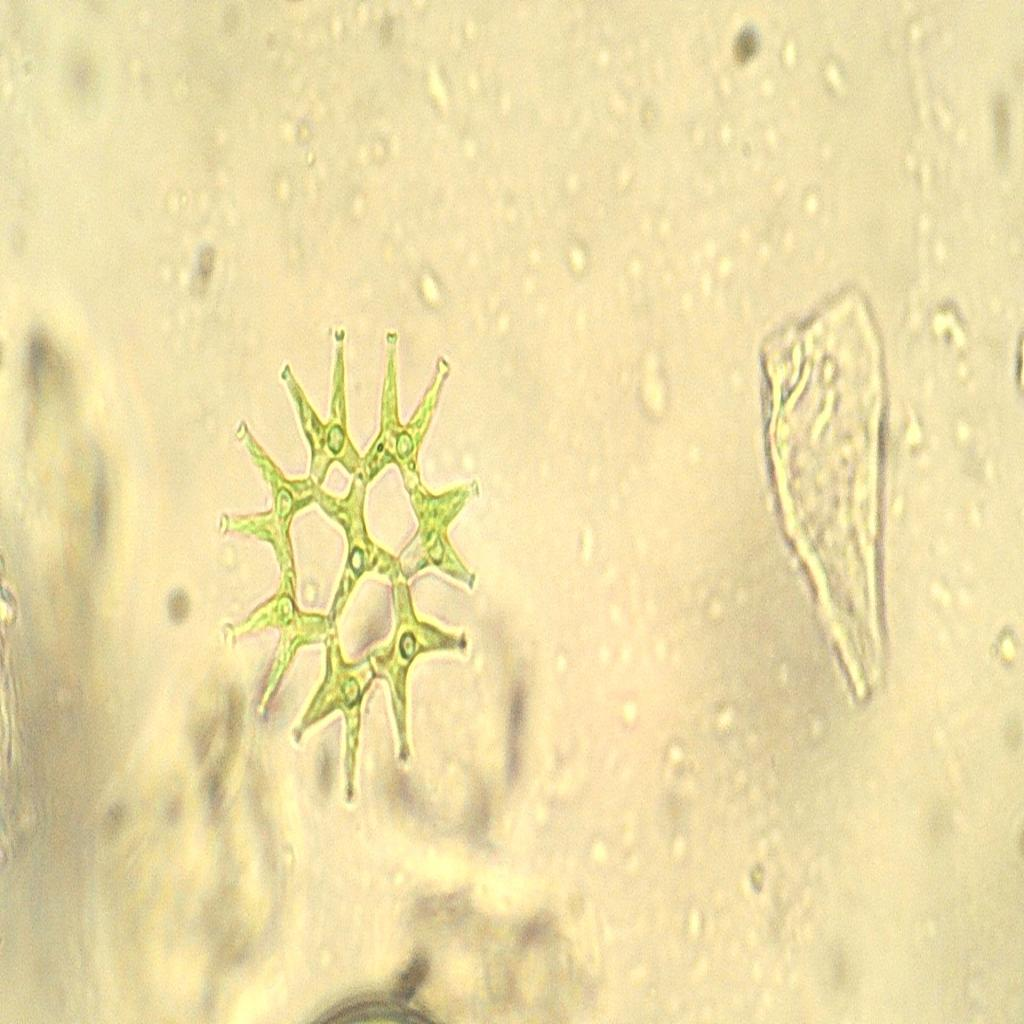Pediastrum_1T: (203, 311, 499, 809)
